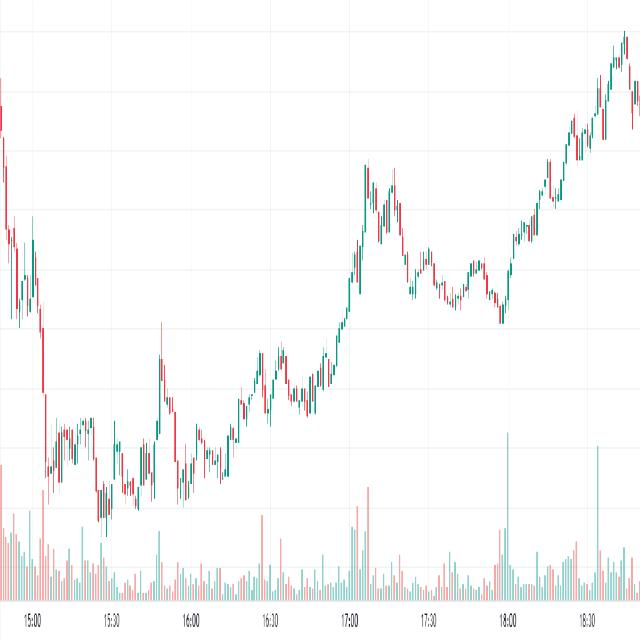Ascending-Triangle: (42, 406, 110, 546)
Double-Top: (358, 154, 407, 274)
Rounding-Bottom: (1, 185, 365, 540)
Triangle: (153, 332, 231, 544)
